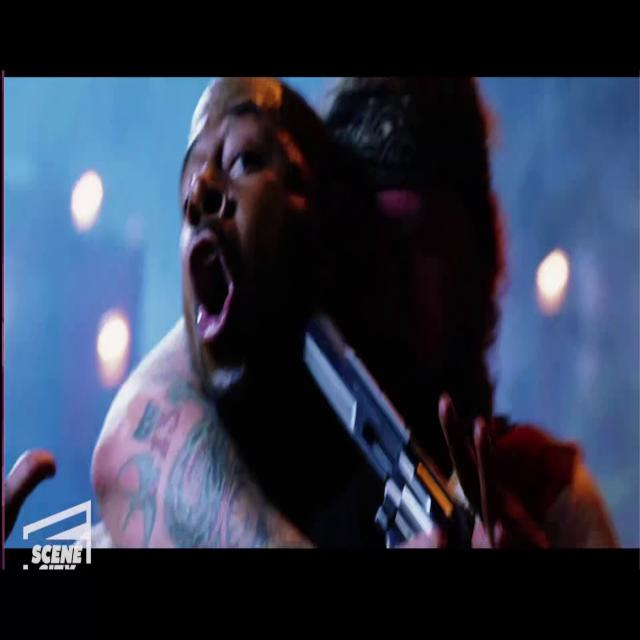weapons: (290, 274, 479, 546)
